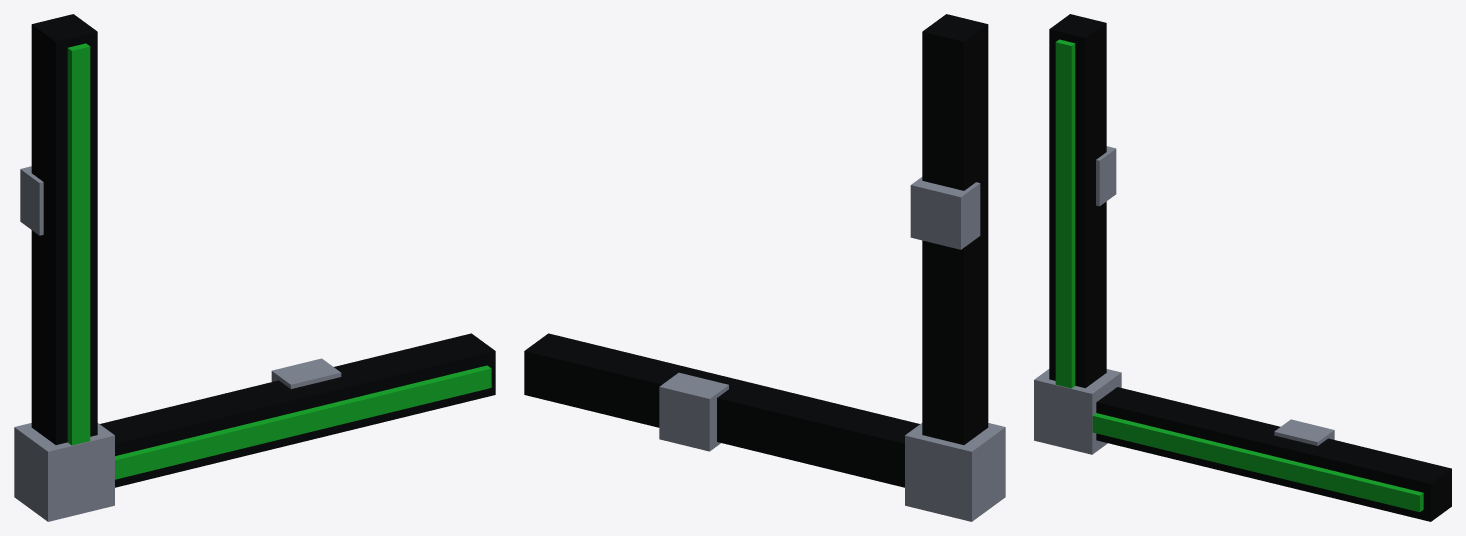
File: SM_Cable_Corner_Green.glb
3 renders of one model, left to right at view 1: azimuth 30°, elevation 25°; view 2: azimuth 150°, elevation 25°; view 3: azimuth 330°, elevation 25°, orthographic. The views are drawn at different scales.
Visible parts, largest first — view 1: SM_Cable_Corner_Green; view 2: SM_Cable_Corner_Green; view 3: SM_Cable_Corner_Green.
Boxes of the visible parts, box(x1,y1,x2,y2) form: SM_Cable_Corner_Green: box(14, 14, 495, 521); SM_Cable_Corner_Green: box(524, 14, 1005, 521); SM_Cable_Corner_Green: box(1034, 14, 1451, 521).
Bounding box in the file's own units: 0.54 × 0.54 × 0.075.
